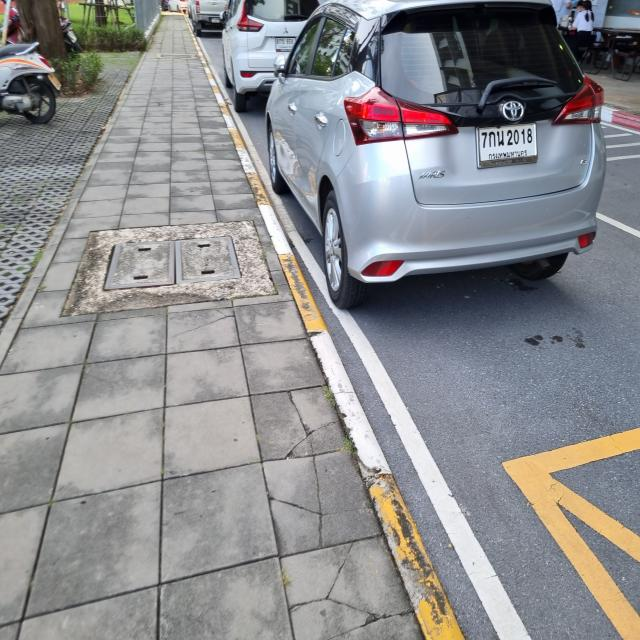license_plate: (473, 115, 541, 174), (274, 32, 296, 53)
